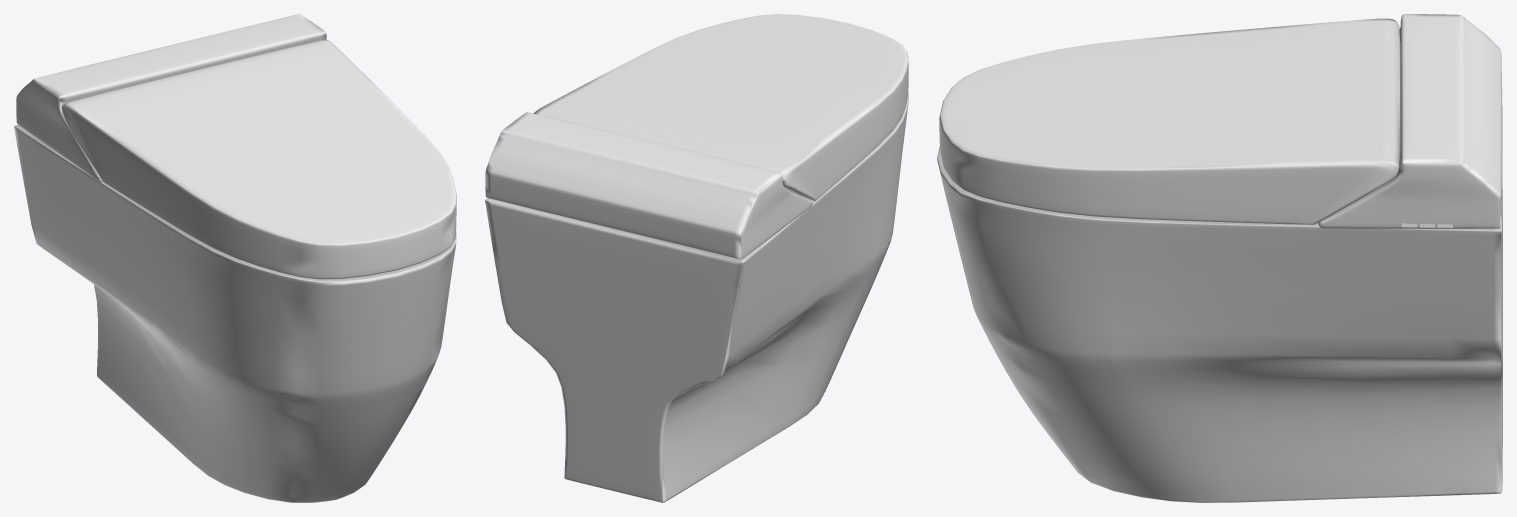
The model's file is Sanitary ware _010.gltf.
3 renders of one model, left to right at view 1: azimuth 30°, elevation 25°; view 2: azimuth 150°, elevation 25°; view 3: azimuth 270°, elevation 25°, orthographic. The views are drawn at different scales.
Parts seen in each view (by area): view 1: Sanitary ware _010; view 2: Sanitary ware _010; view 3: Sanitary ware _010.
Part boxes in pixels (x1=…): Sanitary ware _010: x1=14, y1=14, x2=456, y2=502; Sanitary ware _010: x1=485, y1=14, x2=908, y2=502; Sanitary ware _010: x1=937, y1=14, x2=1502, y2=502.
Bounding box in the file's own units: 0.448 × 0.527 × 0.713.
1 material, 1 textured.
